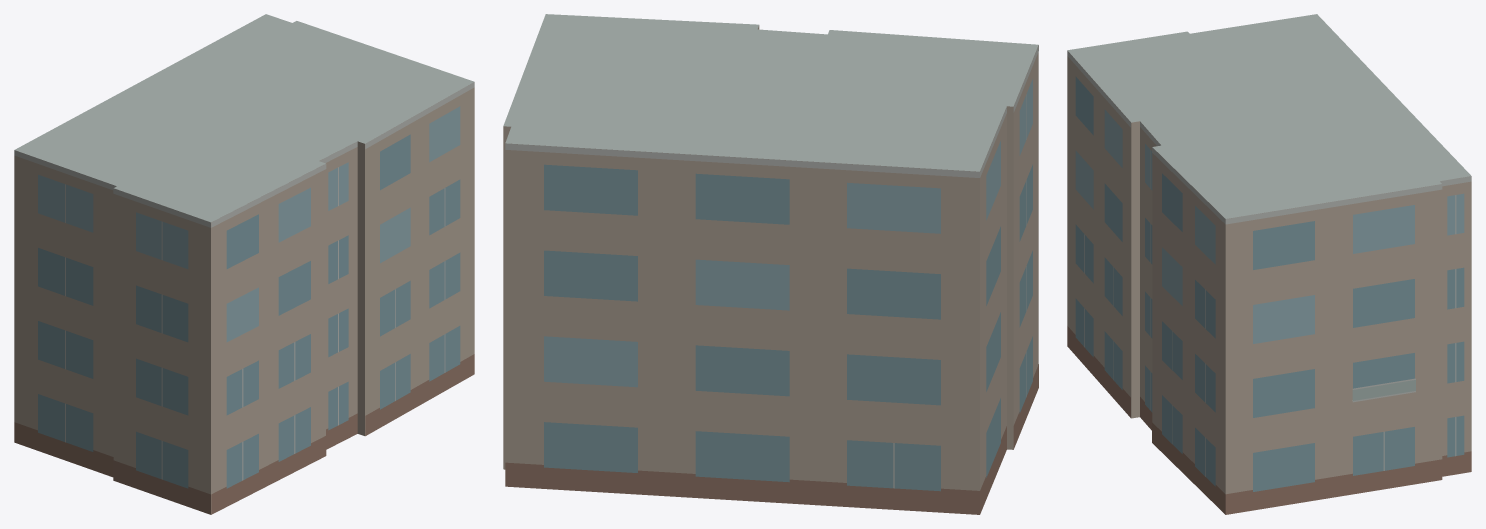
File: survey-upis-32724266.glb
3 renders of one model, left to right at view 1: azimuth 30°, elevation 25°; view 2: azimuth 150°, elevation 25°; view 3: azimuth 270°, elevation 25°, orthographic. The views are drawn at different scales.
Visible parts, largest first — view 1: survey-upis-32724266.tmp; view 2: survey-upis-32724266.tmp; view 3: survey-upis-32724266.tmp.
Boxes of the visible parts, <box> form: survey-upis-32724266.tmp: <box>14,14,474,514</box>; survey-upis-32724266.tmp: <box>503,14,1038,514</box>; survey-upis-32724266.tmp: <box>1067,14,1471,514</box>.
Bounding box in the file's own units: 19.32 × 13 × 16.11.
